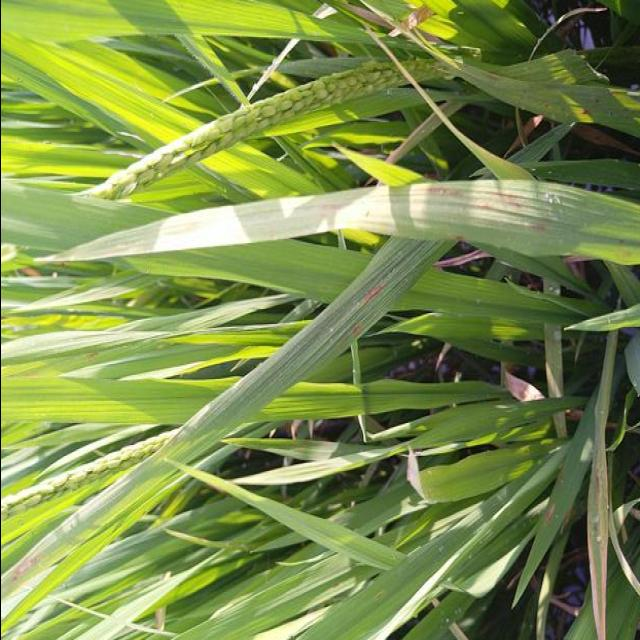Leaf Blight: (589, 435, 612, 640)
Leaf Streak: (40, 181, 616, 261), (253, 240, 451, 393), (501, 365, 544, 402)
